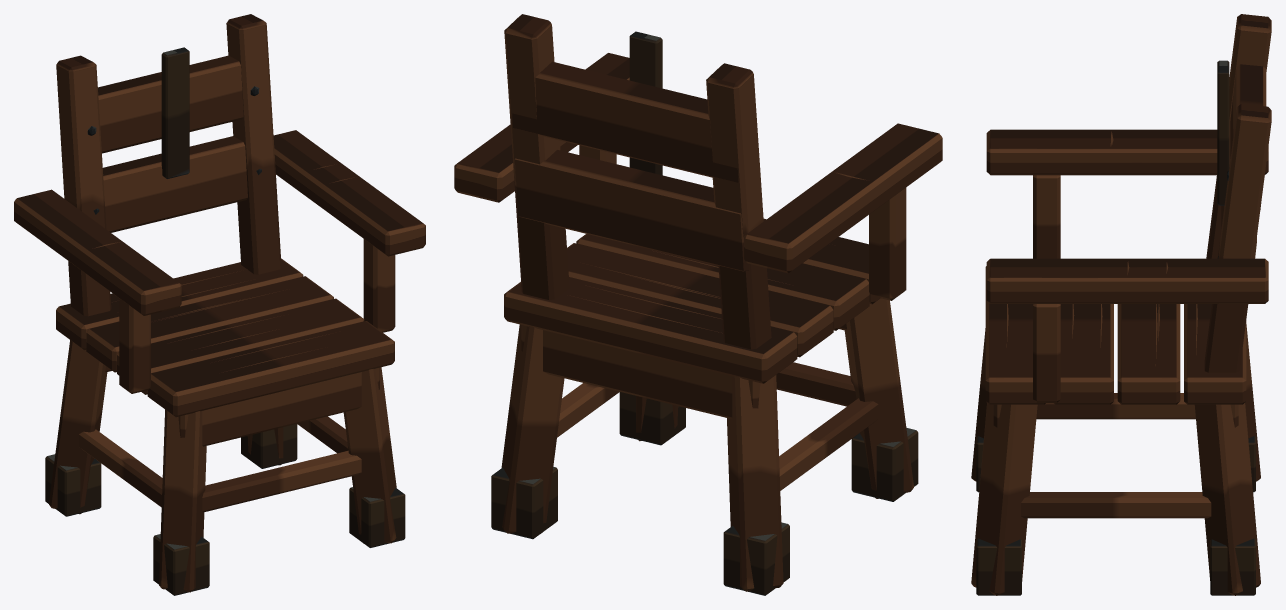
Rendered from Chair_Reinforced.fbx.
3 views of the same model, side by side, from view 1: azimuth 30°, elevation 25°; view 2: azimuth 150°, elevation 25°; view 3: azimuth 270°, elevation 25° (orthographic). The views are drawn at different scales.
Parts seen in each view (by area): view 1: Chair_Reinforced; view 2: Chair_Reinforced; view 3: Chair_Reinforced.
Part boxes in pixels (bbox=[...]): Chair_Reinforced: bbox=[14, 14, 425, 595]; Chair_Reinforced: bbox=[454, 14, 942, 595]; Chair_Reinforced: bbox=[971, 14, 1271, 595].
Bounding box in the file's own units: 0.77 × 1.13 × 0.6497.
2 materials, 2 textured.
